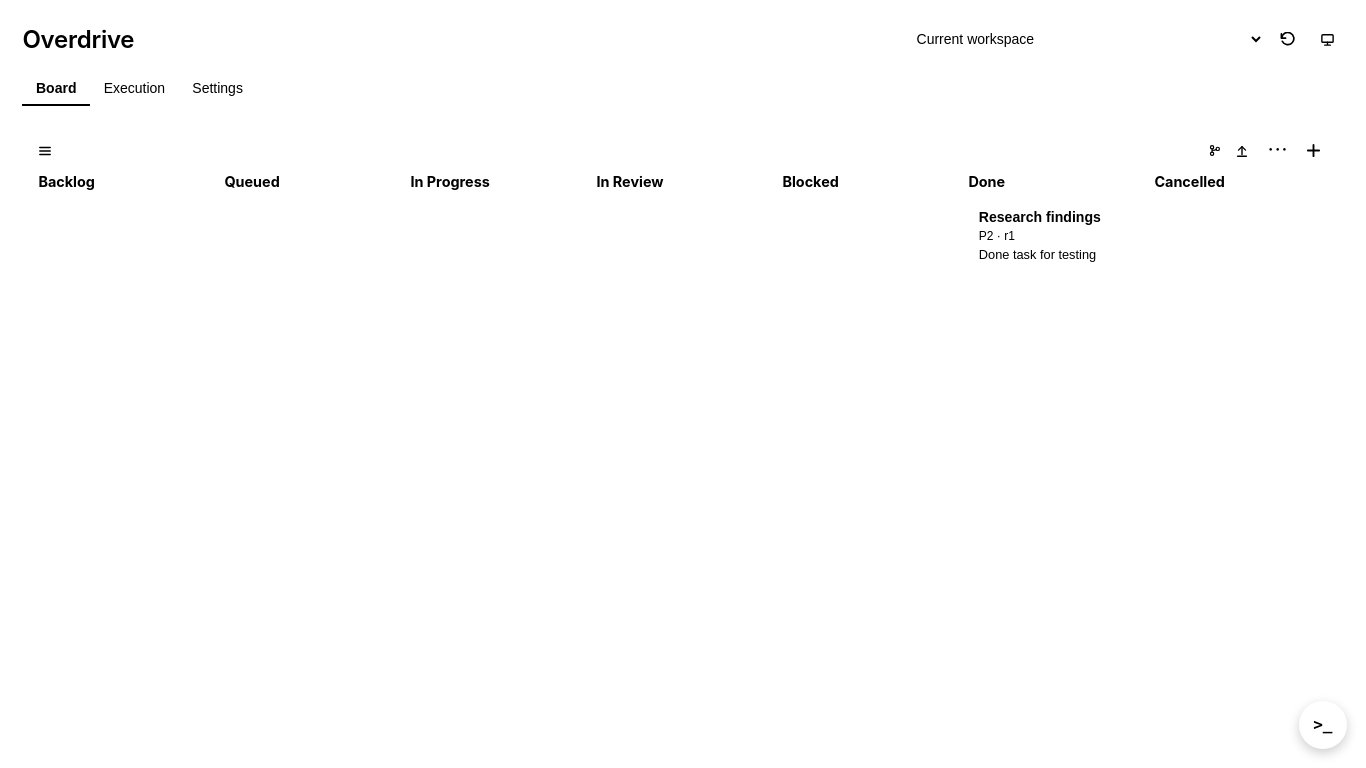
Test: Generate Follow-Up Tasks › shows Generate Follow-Up Tasks button for done research task
The image size is (1366, 768).
Click the text "Research findings" at {"x": 1040, "y": 217}, box [979,209,1101,225]
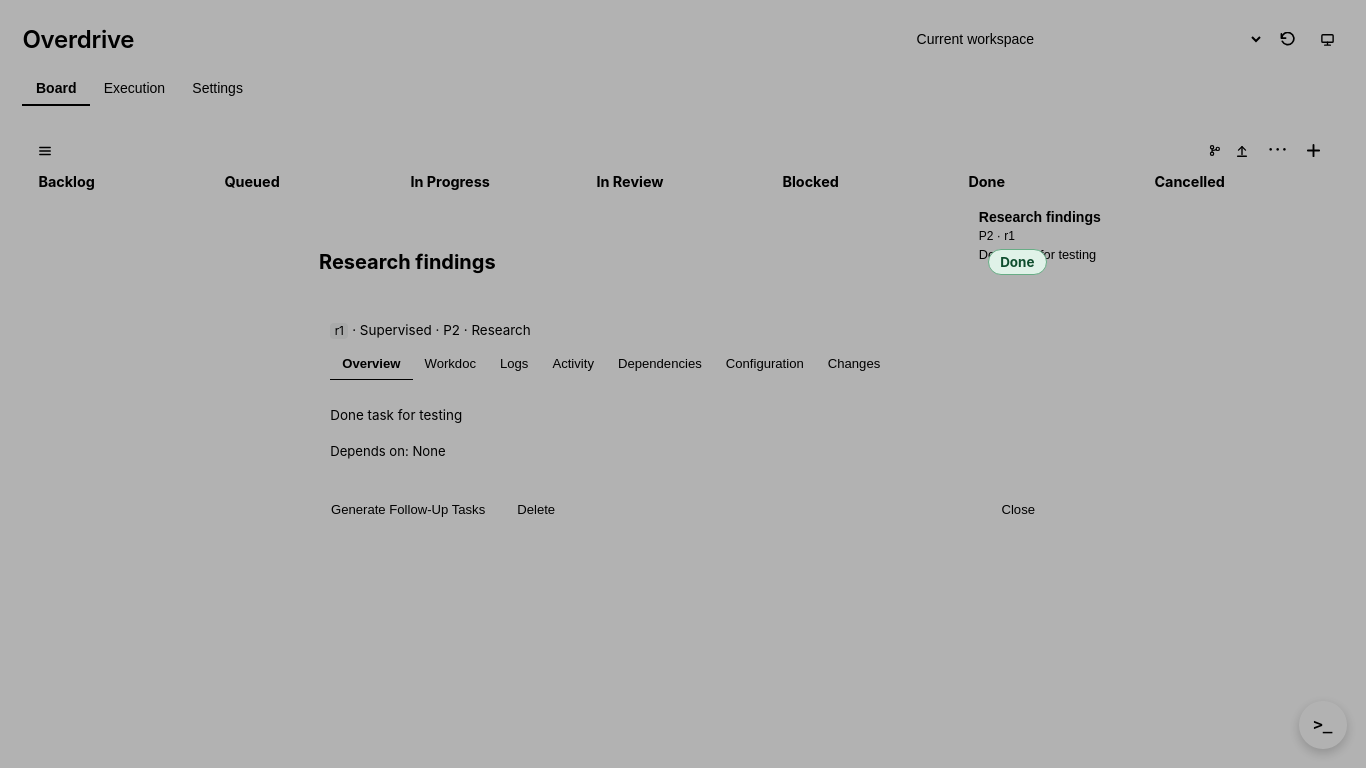
Check: the button "Generate Follow-Up Tasks" is shown, box [319,496,497,525]
